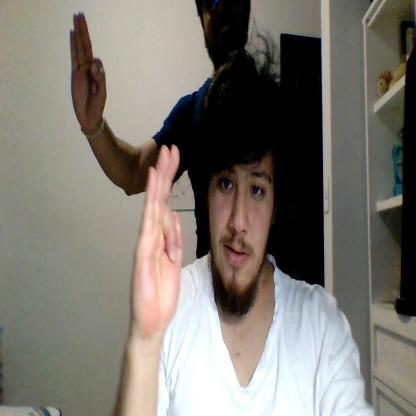F: (130, 145, 183, 330), (69, 11, 108, 124)
